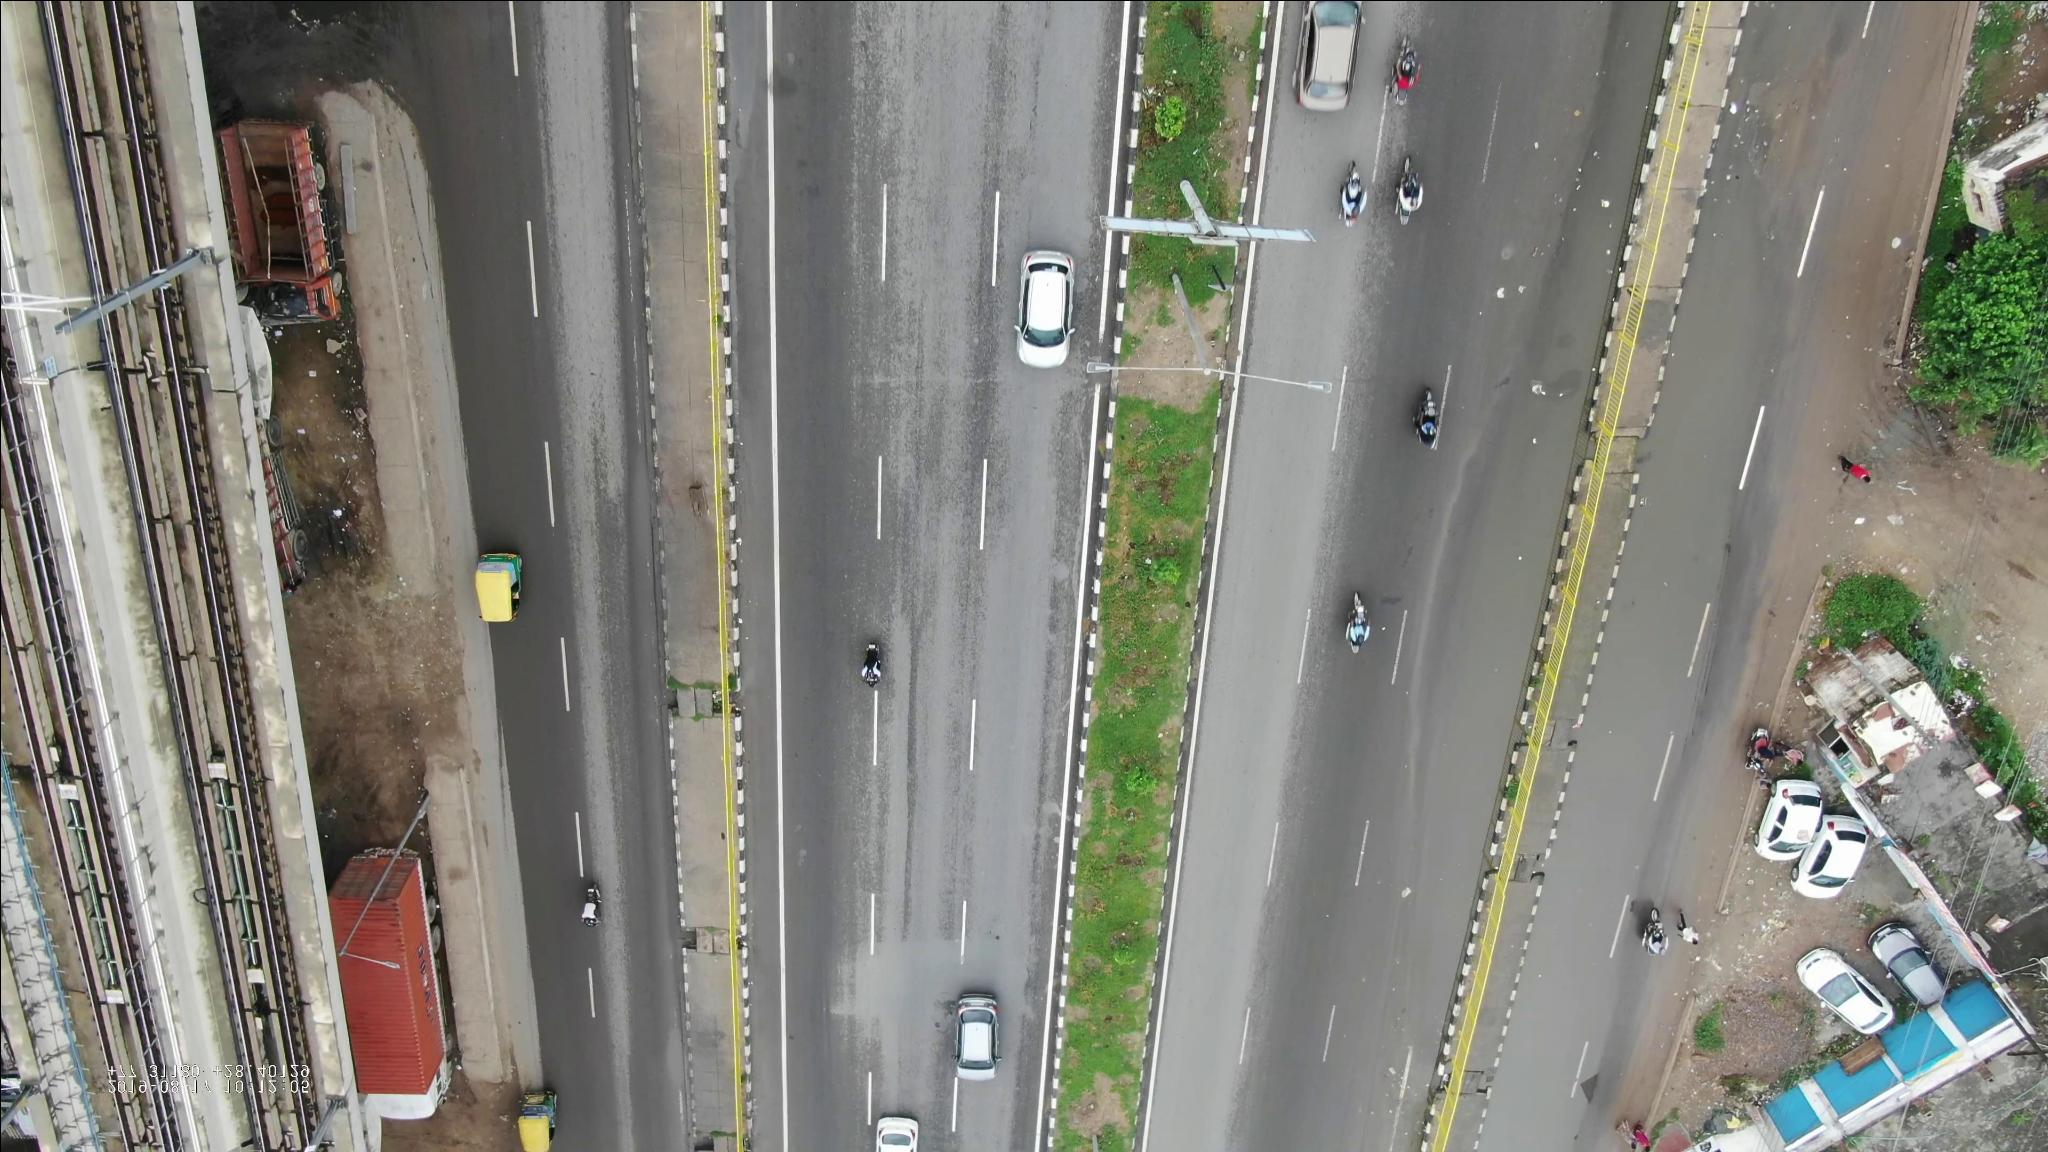Waterlogging: (1398, 459, 1571, 1018), (1596, 190, 1789, 668)
